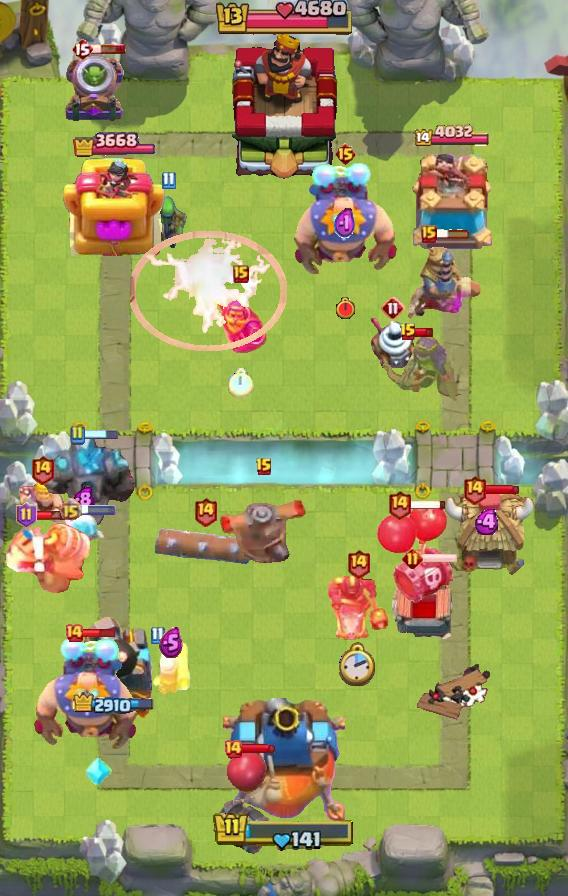archer: (17, 479, 67, 525)
barbarian-evolution: (130, 230, 286, 352)
barbarian-hut: (377, 329, 461, 407)
bat: (62, 512, 106, 548)
cannoneer-tower: (39, 433, 135, 531)
clock: (213, 811, 355, 852), (213, 0, 355, 38)
dark-prince: (216, 481, 312, 571)
electro-spirit: (334, 207, 356, 241), (159, 627, 183, 658), (474, 509, 502, 535), (73, 486, 95, 512)
elixir: (339, 642, 377, 688), (228, 368, 254, 398), (335, 296, 357, 320)
elixir-golem-mid: (389, 562, 459, 648)
emote: (409, 498, 446, 510), (422, 552, 459, 564), (90, 43, 126, 55), (435, 228, 471, 240), (83, 429, 119, 441), (484, 484, 520, 496), (240, 743, 276, 755), (34, 509, 69, 521), (82, 627, 117, 639), (79, 505, 117, 515), (414, 327, 434, 338)
firecracker-evolution: (215, 287, 268, 353)
freeze: (326, 575, 390, 643)
giant-snowball: (148, 194, 188, 252)
goblin-cage: (62, 54, 126, 124)
goblin-drill: (366, 308, 420, 368)
king-tower: (222, 31, 346, 181), (223, 698, 345, 826)
little-prince: (290, 161, 400, 277), (31, 636, 141, 752)
minion: (155, 528, 255, 564)
night-witch: (0, 518, 92, 596)
pad_2: (84, 754, 112, 788)
prince: (441, 488, 535, 578)
queen-tower: (62, 156, 166, 256), (405, 154, 501, 256)
ram-rider: (401, 237, 483, 323)
royal-recruit-evolution: (376, 501, 458, 607), (211, 750, 277, 854)
selected: (73, 129, 155, 161), (72, 691, 155, 716), (416, 124, 493, 149)
text: (30, 455, 55, 486), (193, 497, 218, 528), (346, 548, 371, 579), (387, 489, 412, 519), (462, 475, 486, 505), (381, 296, 405, 320), (335, 142, 358, 166), (16, 502, 37, 528), (58, 498, 81, 521), (71, 37, 93, 61), (401, 547, 422, 569), (64, 623, 84, 643), (223, 739, 243, 759), (399, 322, 417, 342), (255, 457, 273, 477), (69, 425, 85, 445), (421, 225, 437, 243), (233, 265, 249, 283), (161, 171, 176, 189), (151, 626, 165, 645)
tombstone: (150, 639, 192, 697)
tower-bar: (64, 615, 164, 731)
